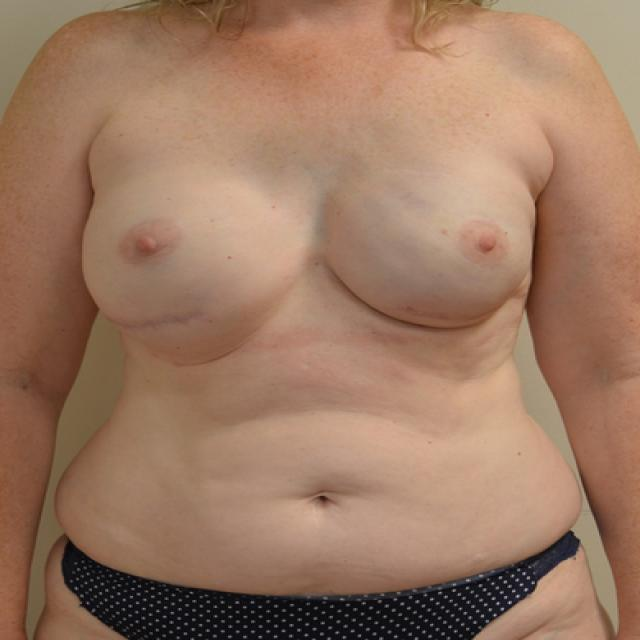Seno herido: (75, 148, 313, 370), (322, 148, 543, 347)
